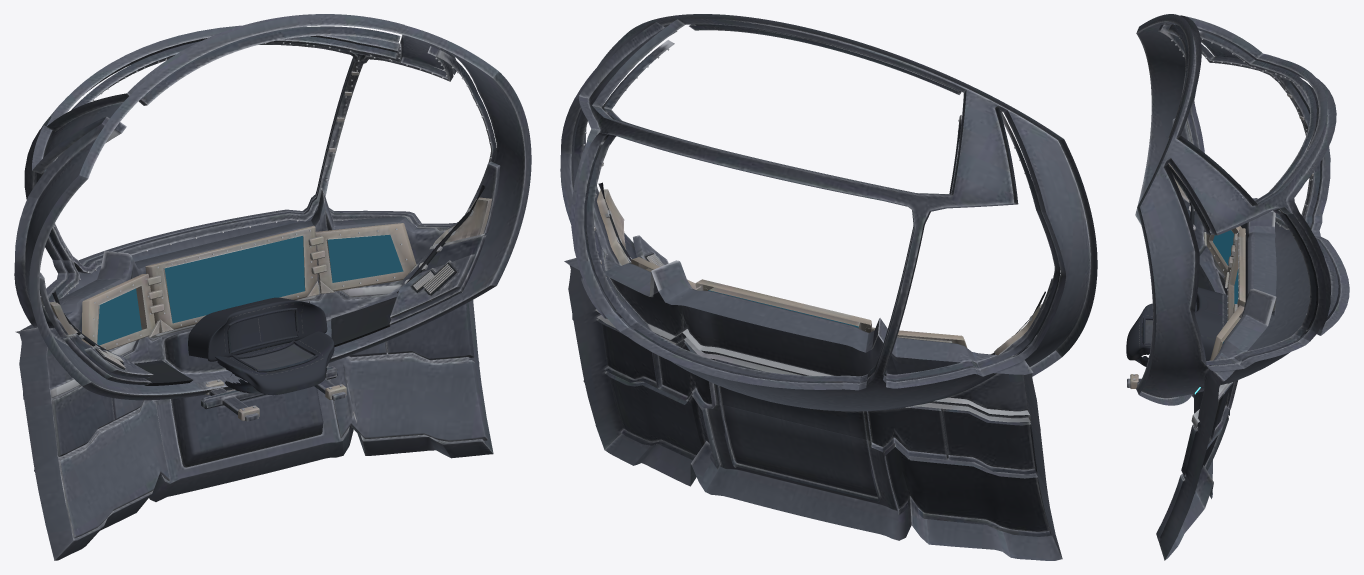
The model's file is cockpit_kasif_m.glb.
The picture shows the model from 3 angles, left to right: view 1: azimuth 30°, elevation 25°; view 2: azimuth 150°, elevation 25°; view 3: azimuth 270°, elevation 25°; orthographic projection. The views are drawn at different scales.
Visible parts, largest first — view 1: Cockpit_Body, SCR_RADAR, SCR_HULL, SCR_SYS; view 2: Cockpit_Body; view 3: Cockpit_Body, SCR_SYS.
Boxes of the visible parts, x1,y1,x2,y2 form: Cockpit_Body: (14, 14, 531, 560); SCR_RADAR: (164, 236, 304, 323); SCR_HULL: (327, 234, 403, 282); SCR_SYS: (97, 288, 141, 345); Cockpit_Body: (560, 14, 1097, 560); Cockpit_Body: (1126, 14, 1349, 560); SCR_SYS: (1213, 230, 1234, 265).
Bounding box in the file's own units: 2.77 × 2.49 × 1.21.
10 materials, 8 textured.
